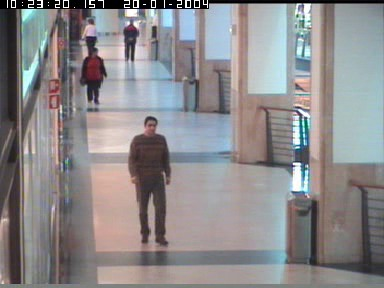person: (128, 116, 171, 246), (78, 45, 105, 103), (81, 16, 98, 57), (123, 20, 139, 62), (149, 9, 159, 39)
